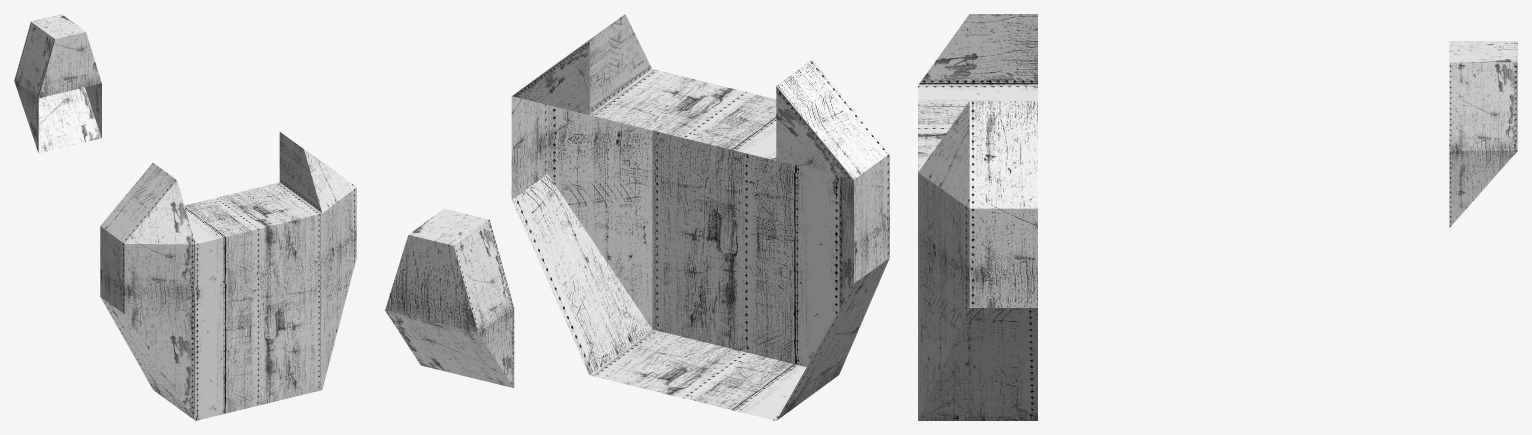
File: paddle_laser_attachment.obj
3 views of the same model, side by side, from view 1: azimuth 30°, elevation 25°; view 2: azimuth 150°, elevation 25°; view 3: azimuth 270°, elevation 25° (orthographic). The views are drawn at different scales.
Visible parts, largest first — view 1: Mesh1 Model, Mesh2 Model; view 2: Mesh1 Model, Mesh2 Model; view 3: Mesh1 Model, Mesh2 Model.
Boxes of the visible parts, <box> form: Mesh1 Model: <box>100,132,356,420</box>; Mesh2 Model: <box>14,14,101,153</box>; Mesh1 Model: <box>511,14,889,420</box>; Mesh2 Model: <box>385,208,514,387</box>; Mesh1 Model: <box>918,14,1037,420</box>; Mesh2 Model: <box>1449,41,1517,227</box>.
Size of the model in its own units: 1.1 by 1.05 by 1.75.
